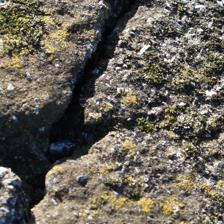Crack: (2, 5, 137, 219)
